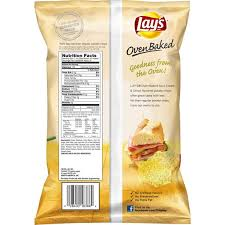lays-med: (34, 2, 190, 225)
